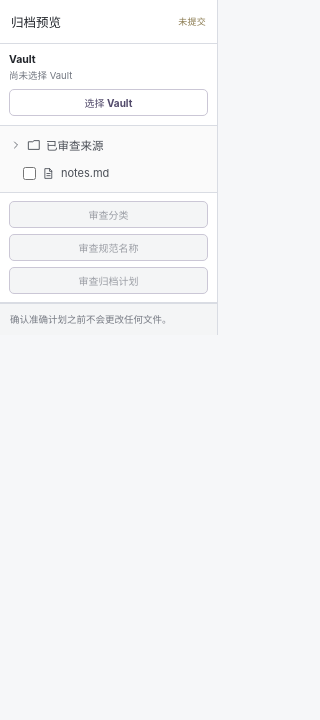
Test: archive preview › renders the archive safety workflow in Simplified Chinese
Expected: the element "归档预览" is shown, [0,0,218,335]
Expected: the text "尚未选择 Vault" is shown, [9,70,72,81]
Click the checkbox named "纳入 notes.md": (30, 173) [23,166,36,180]
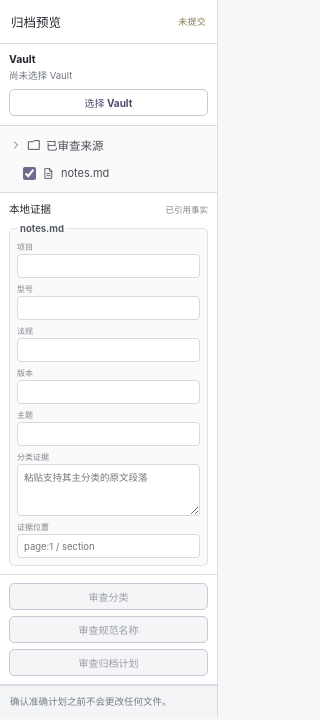
Expected: the button "审查分类" is shown, [9,583,208,610]
Expected: the text "本地证据" is shown, [9,201,51,216]
Expected: the field named "notes.md 的主题" is shown, [17,422,200,446]
